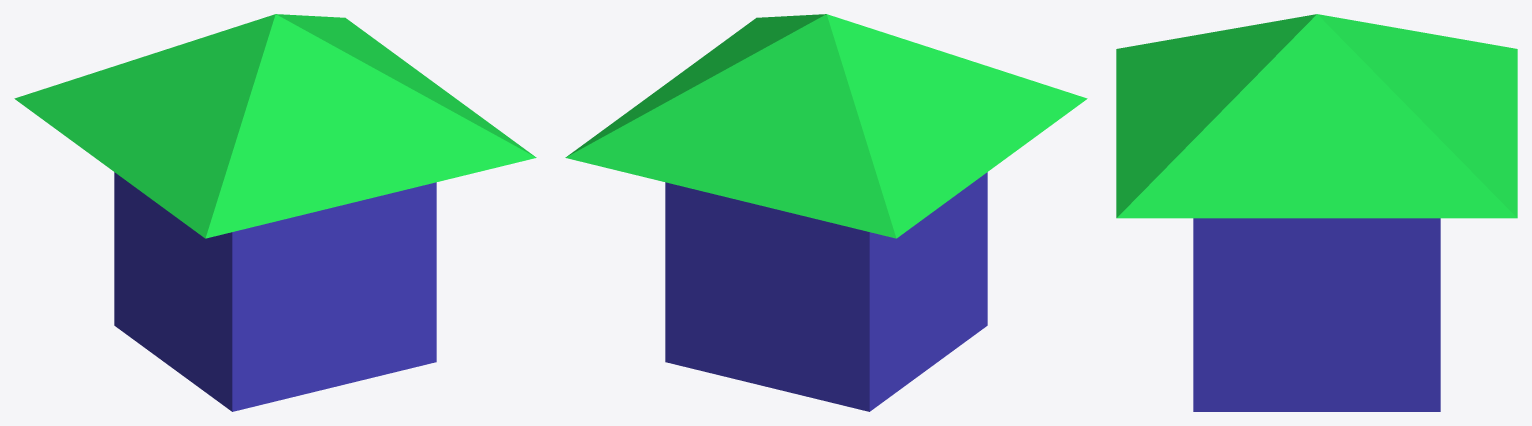
Rendered from house.glb.
The picture shows the model from 3 angles, left to right: view 1: azimuth 30°, elevation 25°; view 2: azimuth 150°, elevation 25°; view 3: azimuth 270°, elevation 25°; orthographic projection. The views are drawn at different scales.
Parts seen in each view (by area): view 1: Cube; view 2: Cube; view 3: Cube.
Boxes of the visible parts, x1,y1,x2,y2 form: Cube: (14, 14, 536, 411); Cube: (565, 14, 1087, 411); Cube: (1116, 14, 1517, 411).
Size of the model in its own units: 3.25 by 3.09 by 3.25.
